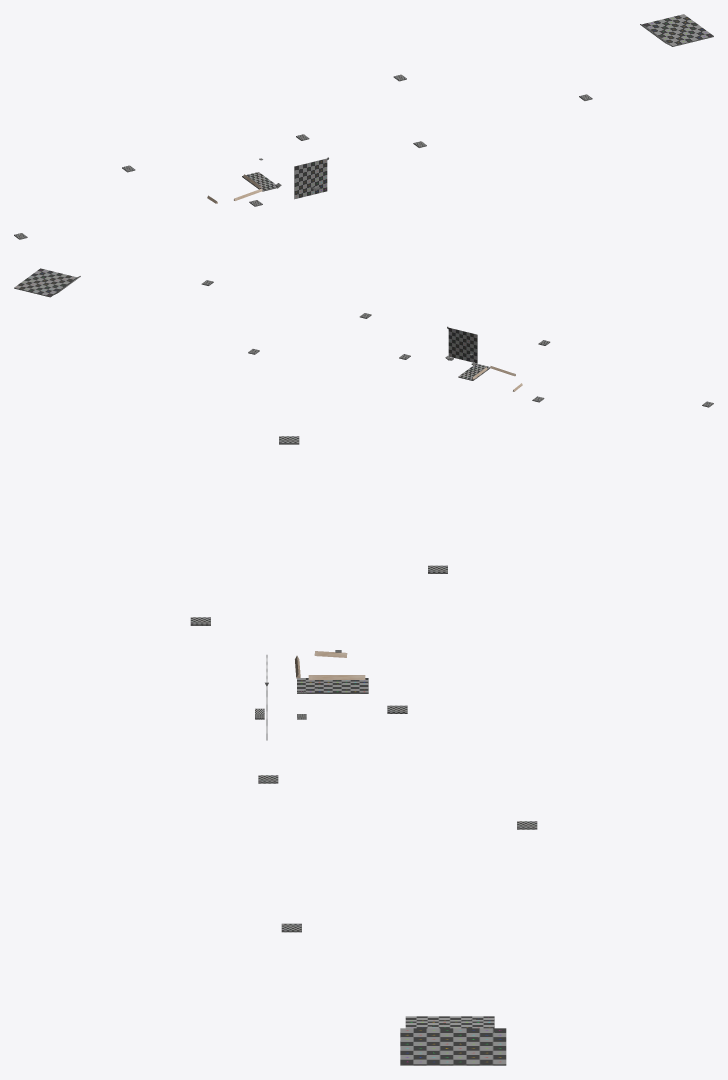
3 renders of one model, top to bottom at view 1: azimuth 30°, elevation 25°; view 2: azimuth 150°, elevation 25°; view 3: azimuth 270°, elevation 25°, orthographic. The views are drawn at different scales.
Parts seen in each view (by area): view 1: Box.009, Box2; view 2: Box.009, Box2, Box; view 3: Box.009, Box.010, Box.
Boxes of the visible parts, x1,y1,x2,y2 form: Box.009: (642, 14, 713, 46); Box2: (294, 157, 328, 199); Box.009: (14, 268, 76, 297); Box2: (447, 326, 477, 363); Box: (458, 363, 489, 380); Box.009: (400, 1028, 506, 1065); Box.010: (405, 1016, 494, 1028); Box: (297, 678, 368, 693).
Bounding box in the file's own units: 960 × 42.03 × 224.
2 materials, 2 textured.
